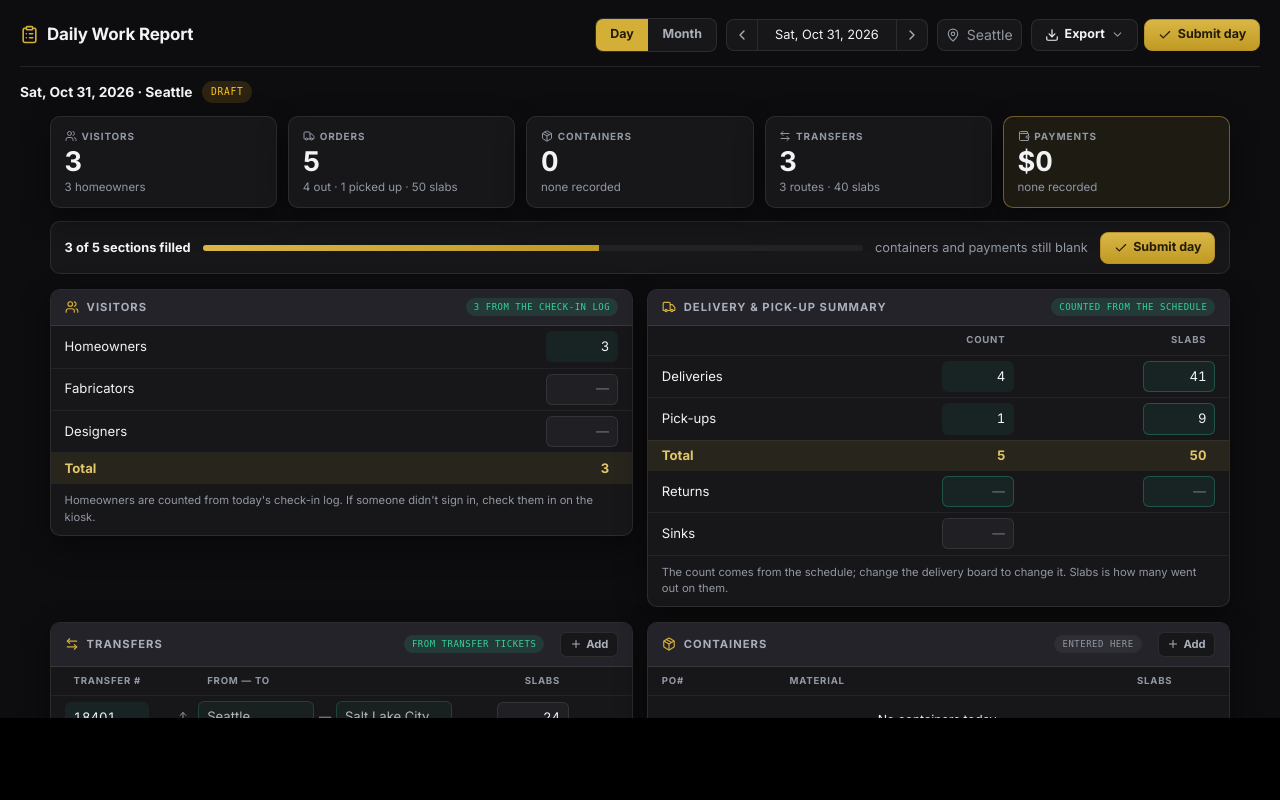
Scenario: Daily Report saves › a save refused because the day was submitted reloads it locked
The width and height of the screenshot is (1280, 800).
In the field named "Sinks": (978, 534) [942, 518, 1014, 550], type "4"
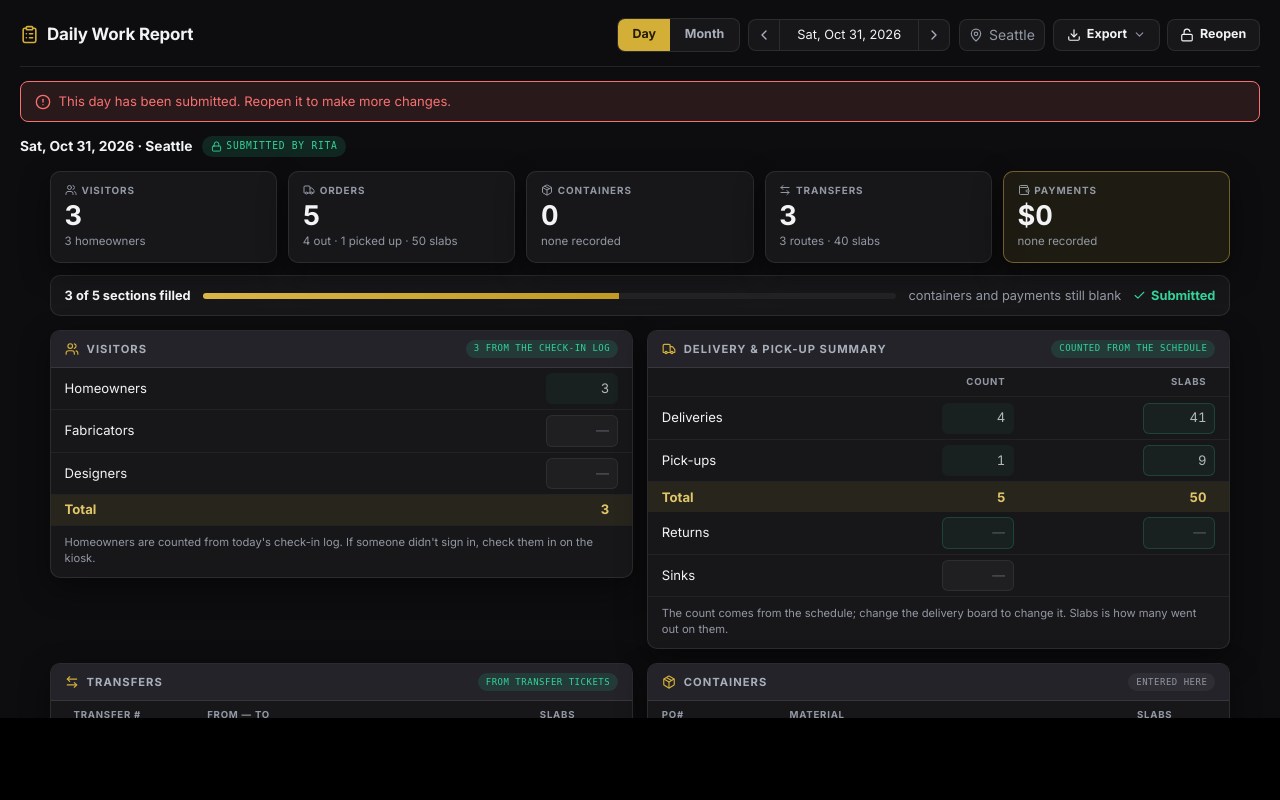
Result: the text "Submitted by Rita" is shown at [202, 136, 346, 157]
Result: the message shows "This day has been submitted" at [59, 93, 451, 109]
